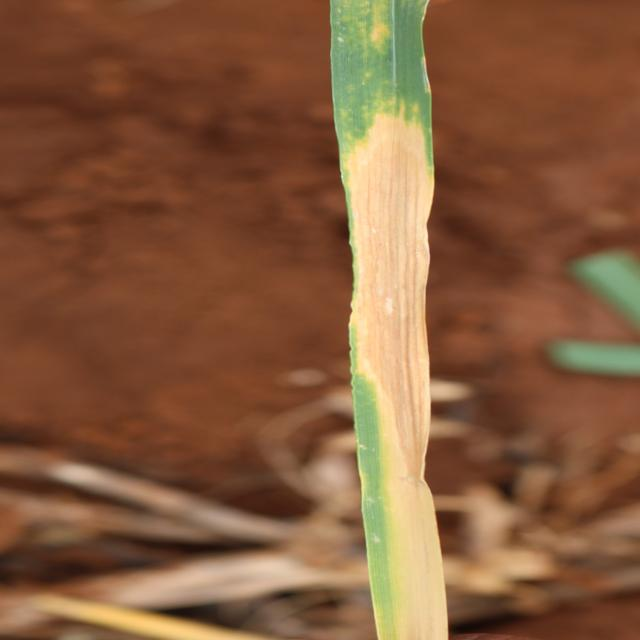Septoria: (328, 1, 450, 638)
